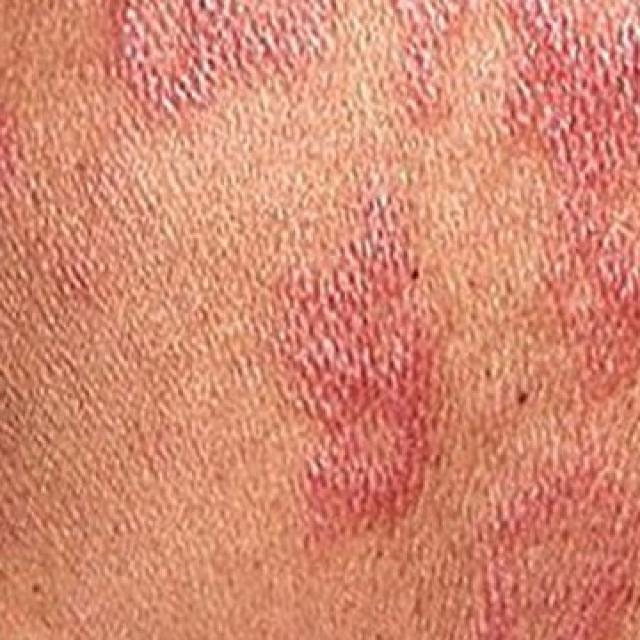Leprosy: (265, 165, 459, 523), (494, 0, 638, 327), (96, 0, 347, 112), (376, 0, 476, 124)
